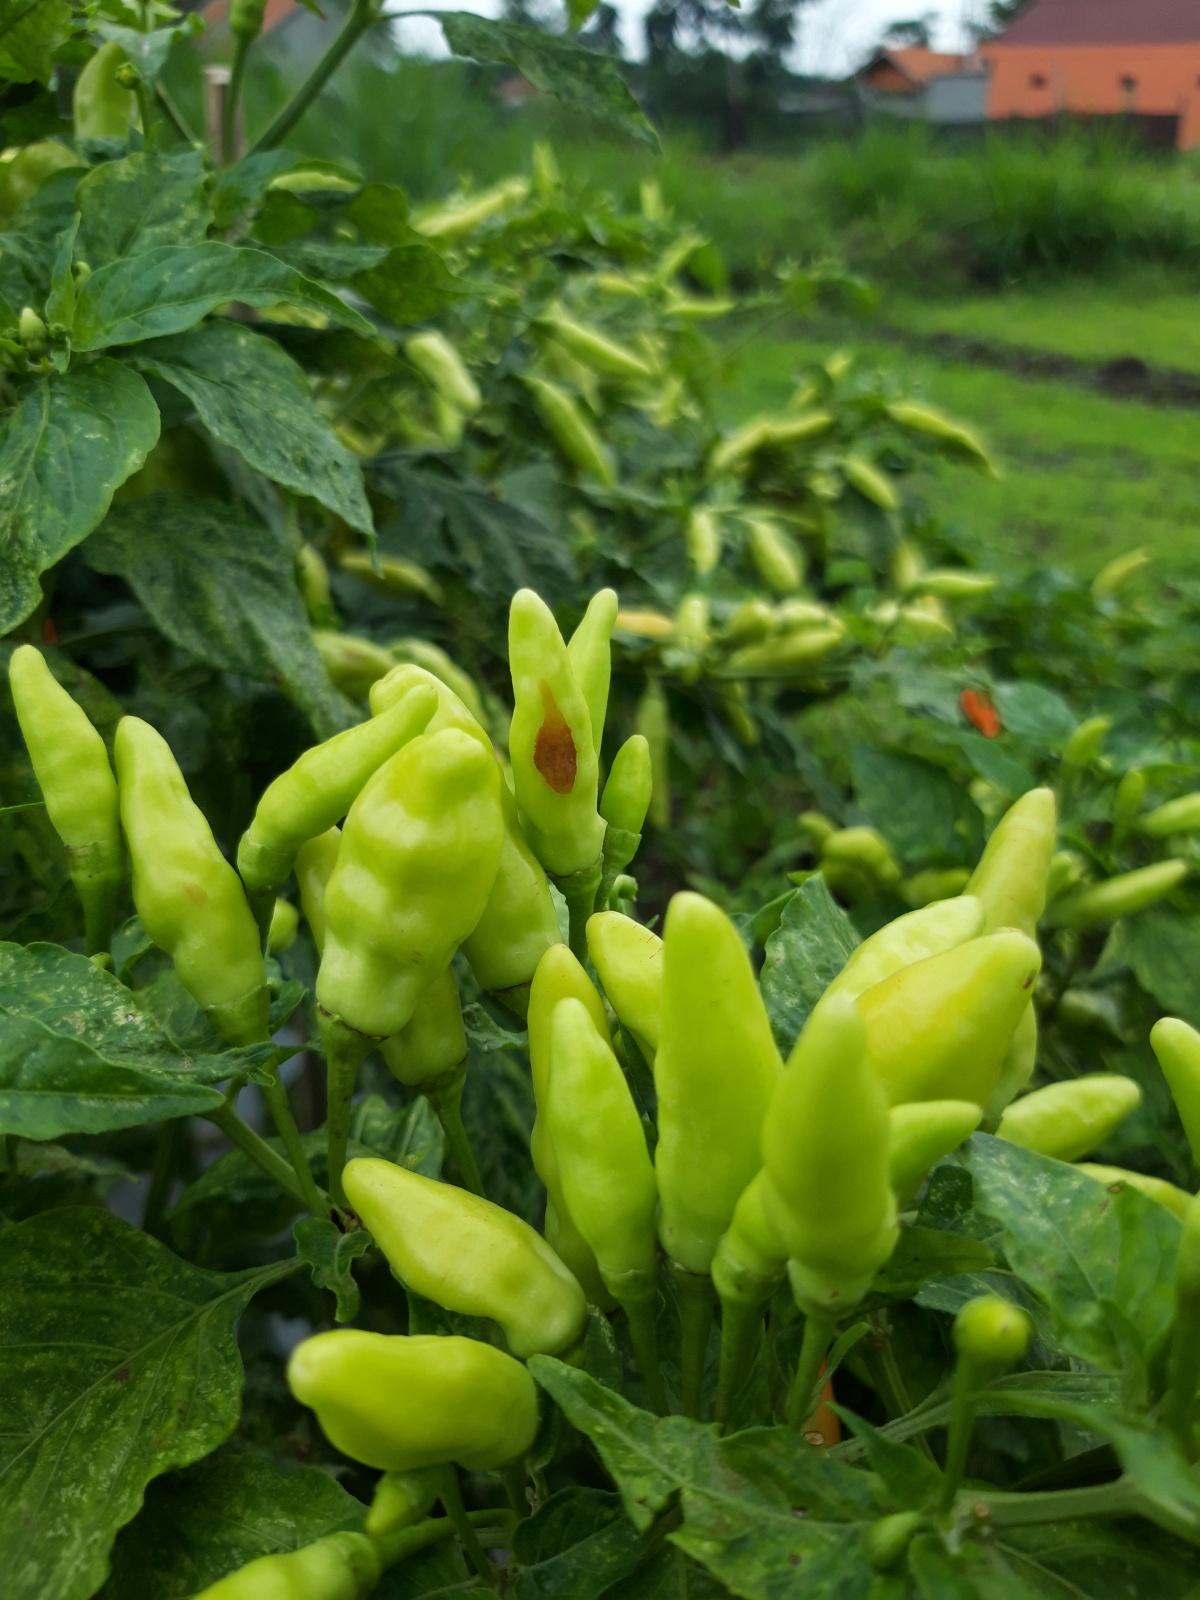cabai_normal: (314, 727, 505, 1044), (650, 889, 785, 1286), (334, 1154, 590, 1358), (111, 714, 271, 1036), (765, 989, 900, 1322), (238, 684, 445, 874), (286, 1328, 542, 1474), (542, 997, 662, 1281), (5, 644, 124, 876), (601, 734, 653, 860)
lalat_buah: (504, 587, 610, 886)
